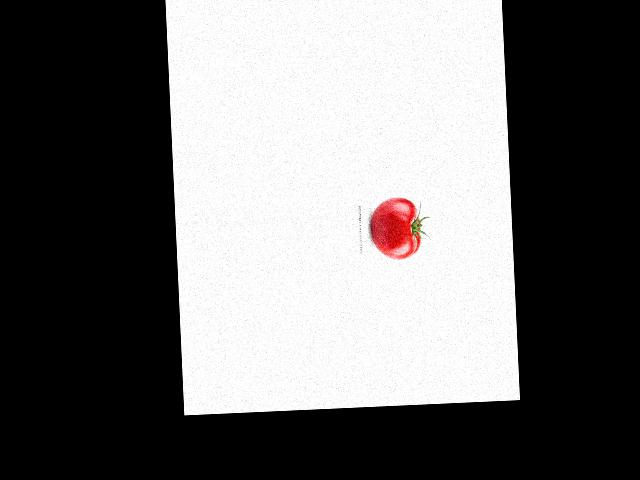tomato: (370, 196, 421, 260)
